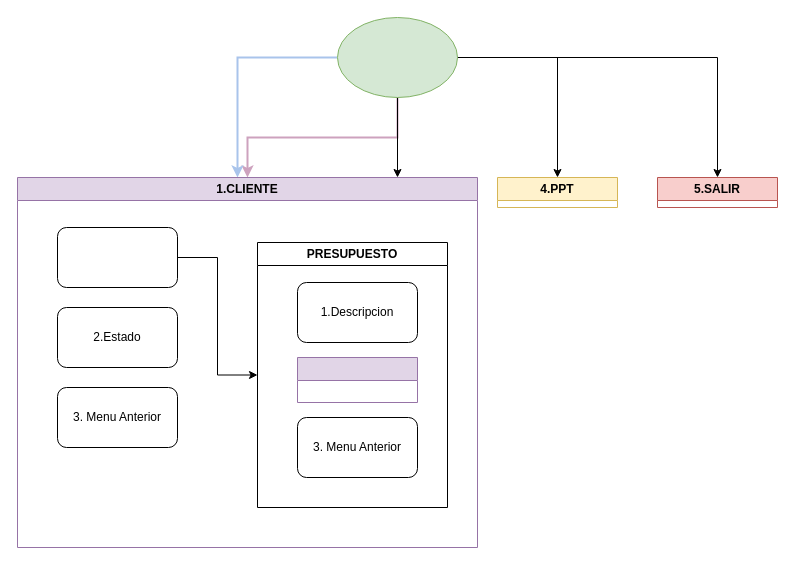
The diagram is 795 pixels wide and 565 high, and some of its shapes have lost their labels. Each missing label, with the centre of its shape:
"1.Presupuesto" belongs at point (117, 257).
"2.Propiedades" belongs at point (357, 379).
"Menu Principal" belongs at point (397, 57).
